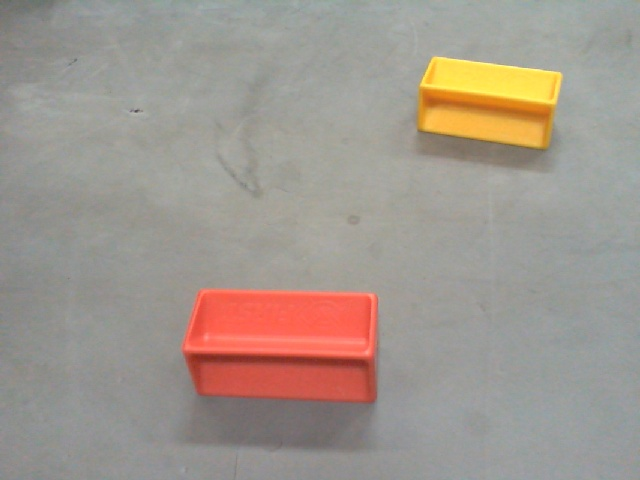RedSample: (179, 287, 382, 403)
YellowSample: (417, 56, 565, 151)
